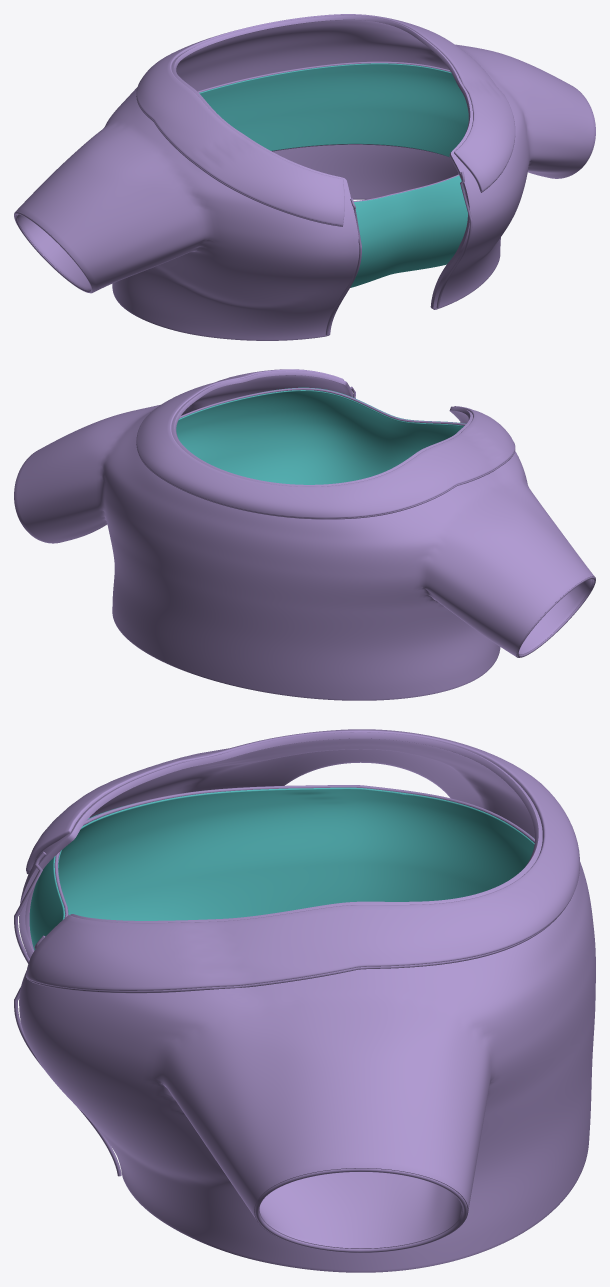
File: Feminine-open-top.glb
3 renders of one model, top to bottom at view 1: azimuth 30°, elevation 25°; view 2: azimuth 150°, elevation 25°; view 3: azimuth 270°, elevation 25°, orthographic. The views are drawn at different scales.
Parts seen in each view (by area): view 1: Clothing / open, Clothing / Bandeau underlayer, Open shirt / continuous falling collar, Bandeau underlayer / bound edge.001 export, Sleeve / soft cuff -1 export, Open shirt / placket 1 export, Collar / folded edge export, Open shirt / placket -1 export; view 2: Clothing / open, Clothing / Bandeau underlayer, Open shirt / continuous falling collar, Bandeau underlayer / bound edge.001 export, Collar / folded edge export, Sleeve / soft cuff -1 export; view 3: Clothing / open, Clothing / Bandeau underlayer, Open shirt / continuous falling collar, Sleeve / soft cuff 1 export, Bandeau underlayer / bound edge.001 export, Collar / folded edge export.
Part boxes in pixels (x1=…): Clothing / open: x1=14, y1=15, x2=595, y2=340; Clothing / Bandeau underlayer: x1=199, y1=63, x2=468, y2=287; Open shirt / continuous falling collar: x1=136, y1=14, x2=515, y2=225; Bandeau underlayer / bound edge.001 export: x1=197, y1=61, x2=458, y2=201; Sleeve / soft cuff -1 export: x1=14, y1=212, x2=93, y2=292; Open shirt / placket 1 export: x1=436, y1=171, x2=472, y2=308; Collar / folded edge export: x1=136, y1=96, x2=504, y2=226; Open shirt / placket -1 export: x1=325, y1=198, x2=361, y2=335; Clothing / open: x1=14, y1=371, x2=595, y2=700; Clothing / Bandeau underlayer: x1=176, y1=387, x2=466, y2=484; Open shirt / continuous falling collar: x1=136, y1=369, x2=515, y2=518; Bandeau underlayer / bound edge.001 export: x1=179, y1=388, x2=465, y2=425; Collar / folded edge export: x1=136, y1=444, x2=515, y2=519; Sleeve / soft cuff -1 export: x1=516, y1=576, x2=595, y2=657; Clothing / open: x1=19, y1=732, x2=595, y2=1272; Clothing / Bandeau underlayer: x1=29, y1=787, x2=534, y2=950; Open shirt / continuous falling collar: x1=26, y1=729, x2=579, y2=990; Sleeve / soft cuff 1 export: x1=254, y1=1168, x2=467, y2=1252; Bandeau underlayer / bound edge.001 export: x1=54, y1=785, x2=534, y2=917; Collar / folded edge export: x1=26, y1=871, x2=563, y2=993.
Bounding box in the file's own units: 0.9346 × 0.3397 × 0.5582.
